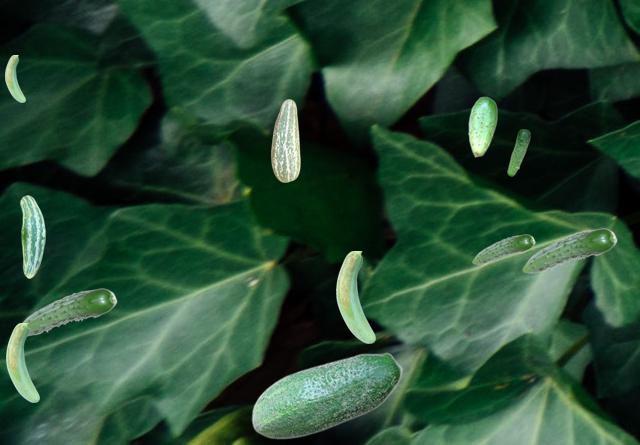cucumber: (251, 352, 402, 438), (22, 288, 116, 335), (522, 228, 616, 272), (336, 251, 374, 342), (6, 323, 38, 401), (271, 99, 299, 181), (20, 195, 44, 277), (472, 234, 534, 263), (468, 96, 496, 156), (507, 129, 529, 175), (5, 55, 24, 101)
